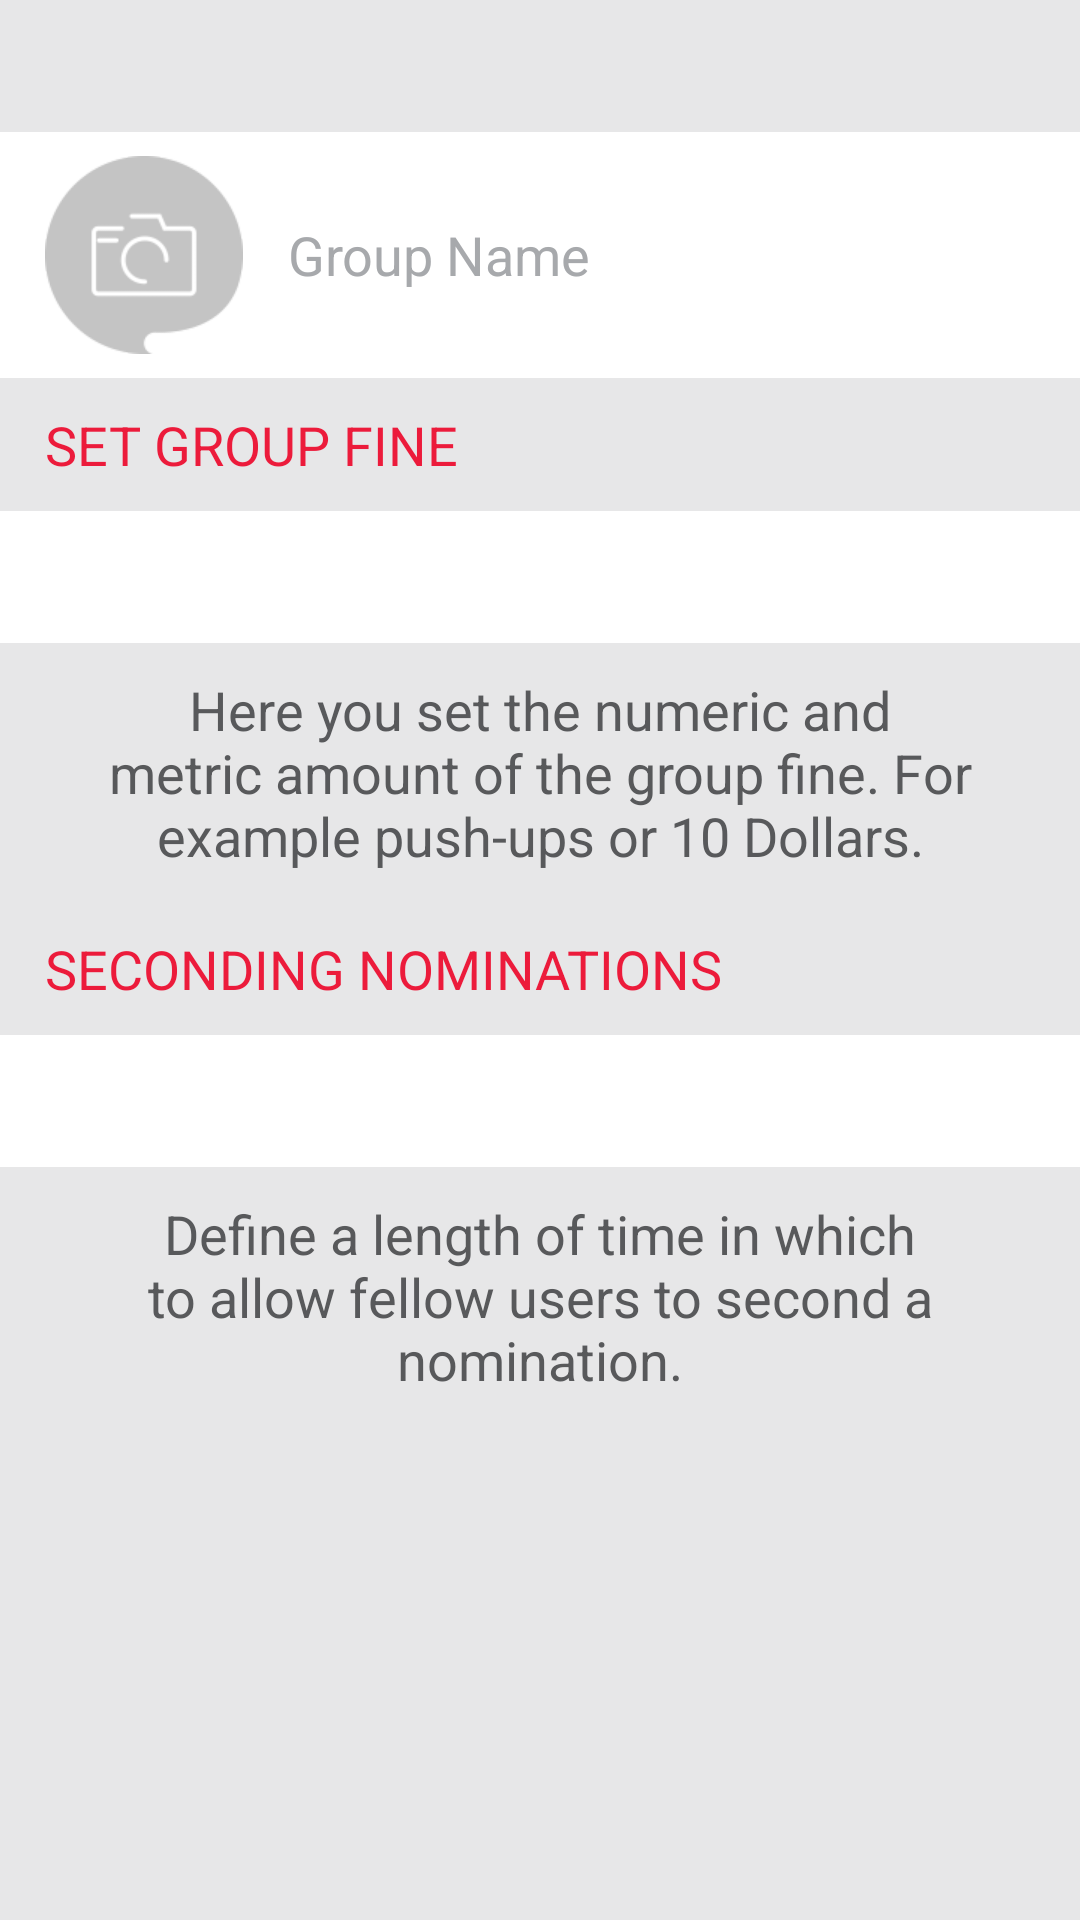

Screen size 1080×1920. Icon name, then its box in pixels as {"x1": x1, "y1": y1, "x2": x2, "y2": y2}:
add group photo: {"x1": 45, "y1": 156, "x2": 243, "y2": 354}
